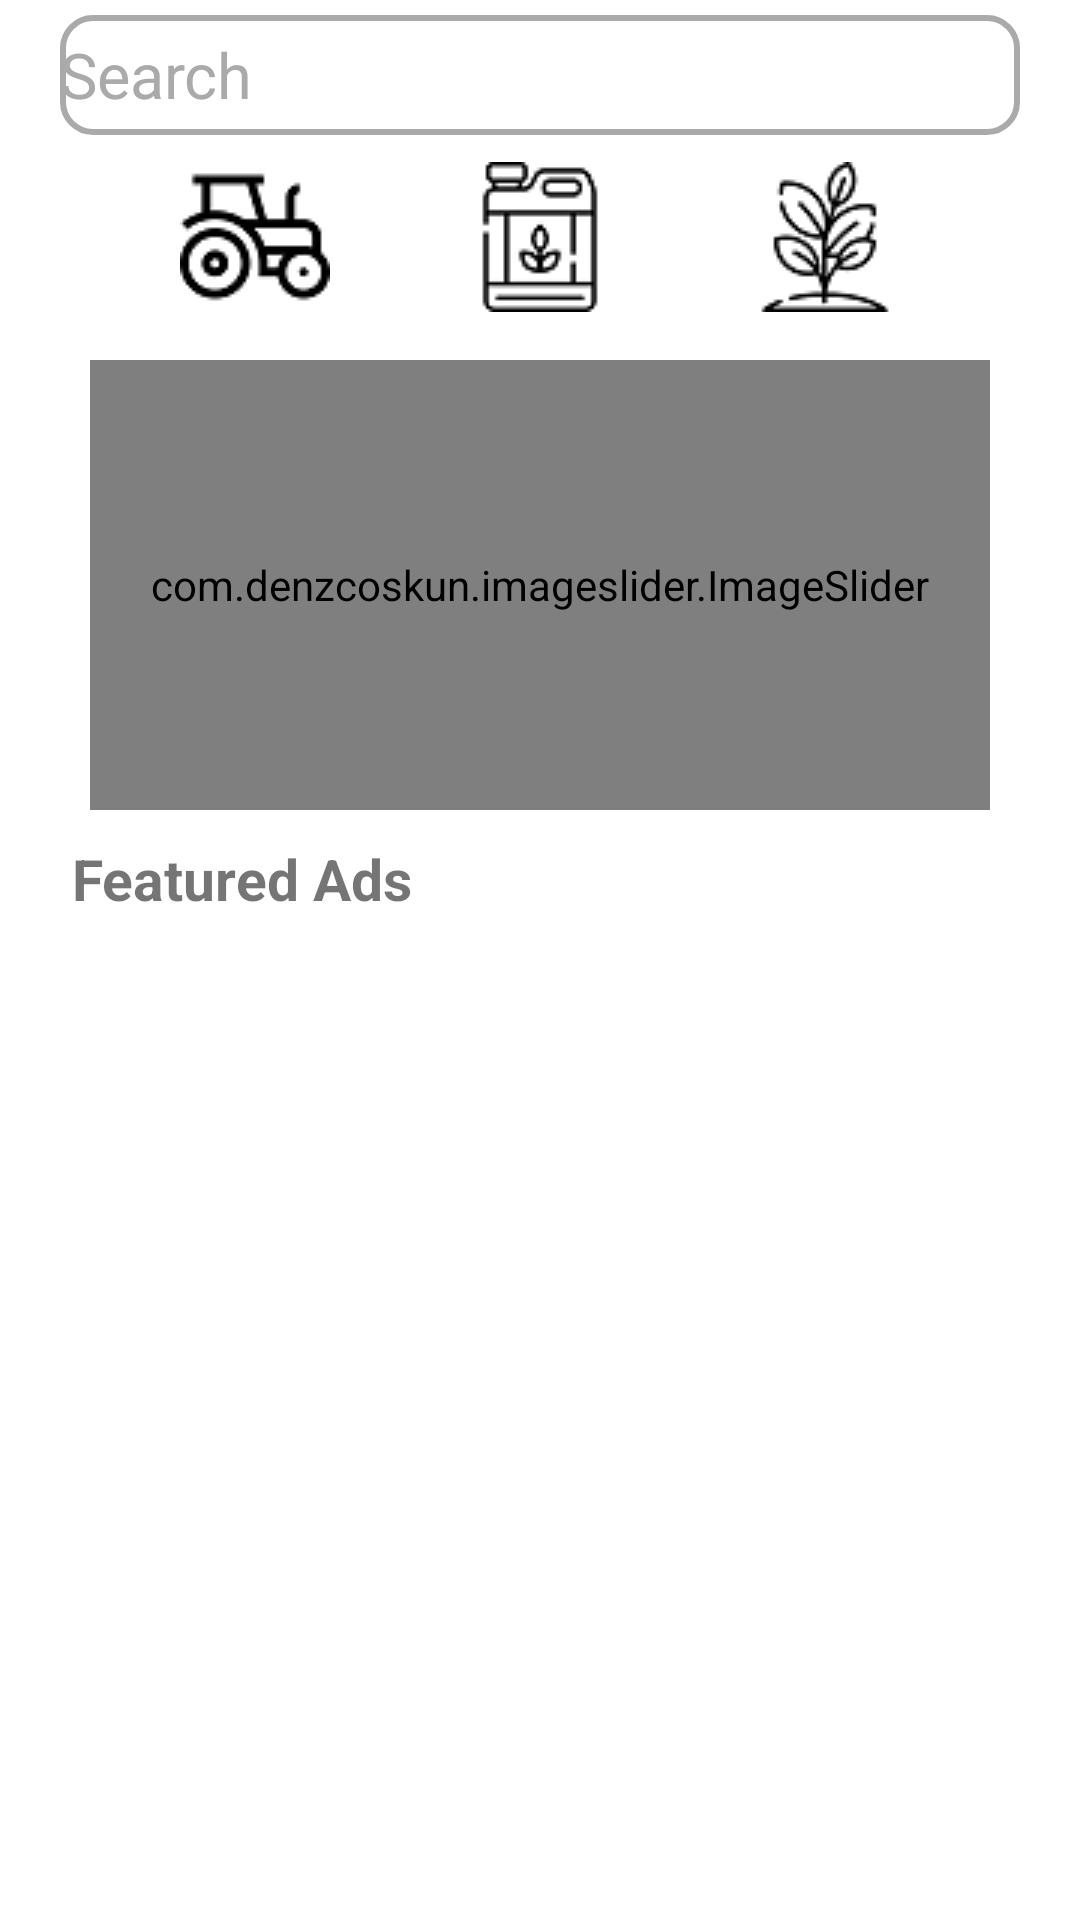

Locate icon controls on the screen. Image size 1080 × 1920, boxes as [x1=x1, y1=y1, x2=x2, y2=y2].
fert: [x1=482, y1=162, x2=598, y2=312]
plann: [x1=761, y1=162, x2=889, y2=312]
tractt: [x1=180, y1=173, x2=330, y2=301]
